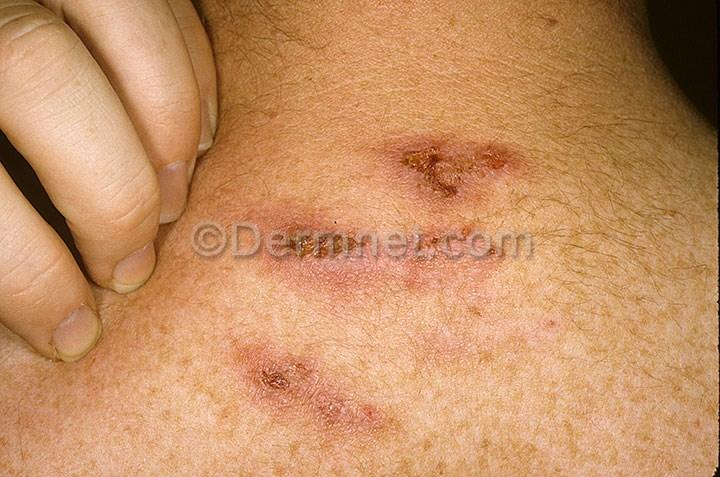Eczema: (189, 323, 375, 456), (252, 193, 376, 313), (381, 126, 545, 216), (405, 214, 544, 309)
